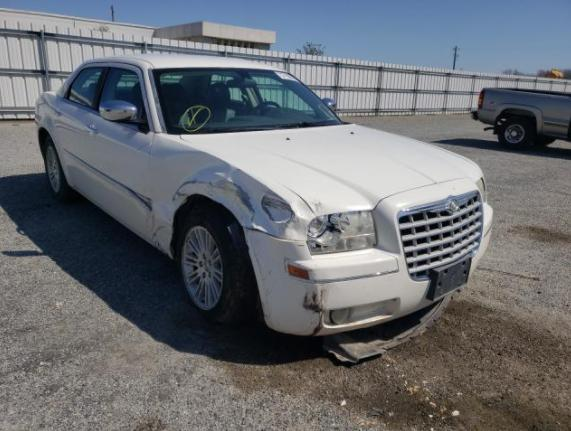Back-bumper: (35, 121, 40, 150)
Back-door: (52, 62, 111, 195)
Back-wheel: (43, 138, 82, 201)
Back-window: (64, 67, 109, 109)
Fender: (150, 133, 316, 253)
Front-bumper: (243, 177, 493, 336)
Front-door: (83, 63, 155, 241)
Front-wheel: (176, 203, 260, 325)
Front-window: (97, 67, 144, 118)
Grille: (397, 189, 484, 281)
Headlight: (306, 210, 377, 256), (476, 178, 487, 202)
Hood: (181, 124, 484, 216)
Mirror: (100, 100, 149, 133), (322, 97, 336, 111)
Quarter-panel: (35, 91, 58, 146)
Rocker-panel: (71, 187, 172, 260)
Roof: (86, 54, 291, 72)
Windshield: (148, 68, 349, 134)
